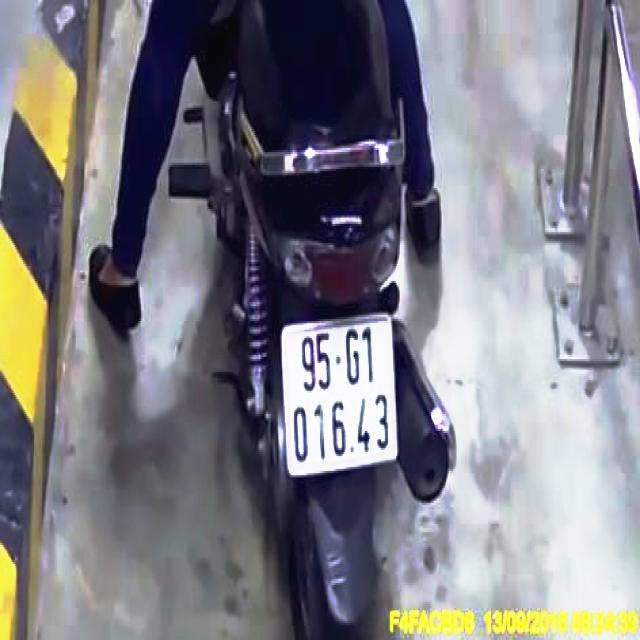license_plate: (285, 317, 400, 470)
